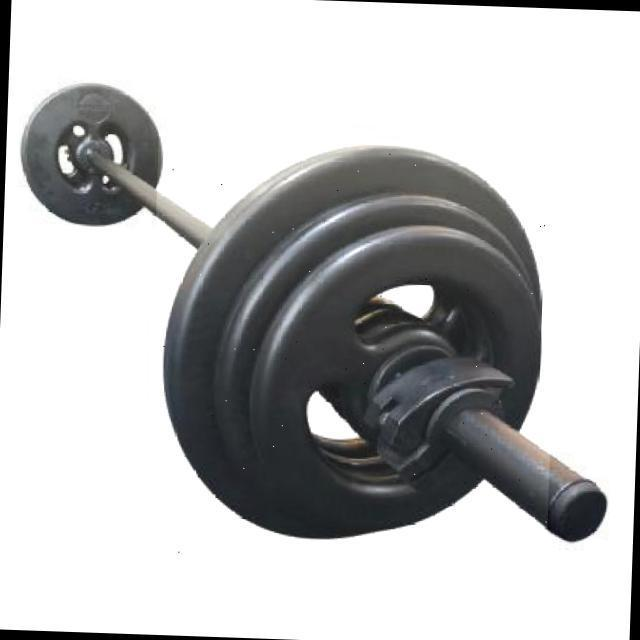barbell: (145, 131, 562, 570)
